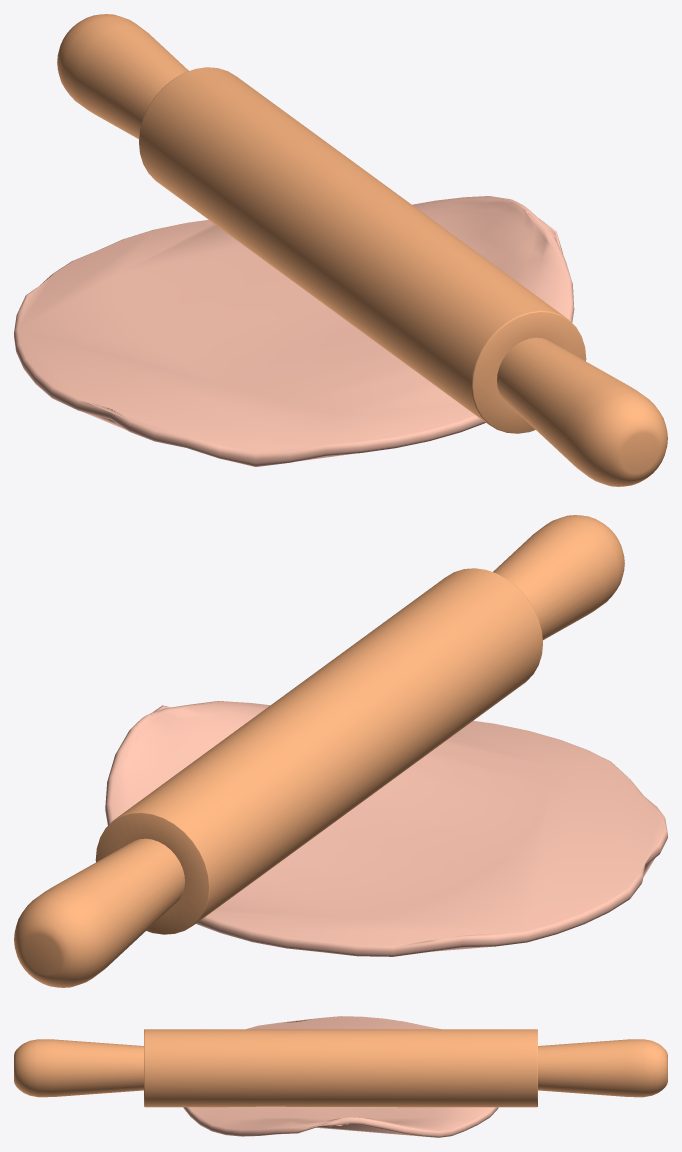
Rendered from Rollingpin.glb.
3 renders of one model, top to bottom at view 1: azimuth 30°, elevation 25°; view 2: azimuth 150°, elevation 25°; view 3: azimuth 270°, elevation 25°, orthographic. The views are drawn at different scales.
Parts seen in each view (by area): view 1: Cylinder.004, BezierCircle.001; view 2: Cylinder.004, BezierCircle.001; view 3: Cylinder.004, BezierCircle.001.
Boxes of the visible parts, x1=… form: Cylinder.004: x1=57, y1=14, x2=667, y2=486; BezierCircle.001: x1=14, y1=196, x2=574, y2=466; Cylinder.004: x1=14, y1=515, x2=624, y2=987; BezierCircle.001: x1=105, y1=701, x2=667, y2=956; Cylinder.004: x1=14, y1=1029, x2=667, y2=1107; BezierCircle.001: x1=183, y1=1016, x2=498, y2=1137.
Size of the model in its own units: 2.6 by 0.7415 by 5.13.
